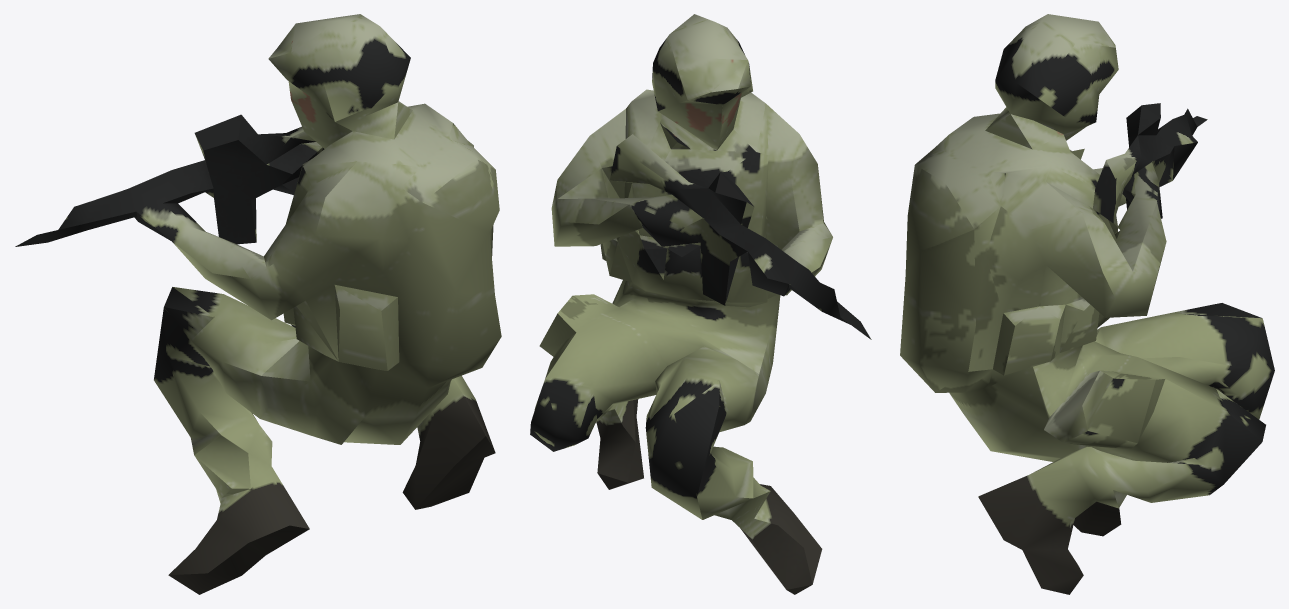
The model's file is rifle_soldier_crouch.glb.
The picture shows the model from 3 angles, left to right: view 1: azimuth 30°, elevation 25°; view 2: azimuth 150°, elevation 25°; view 3: azimuth 270°, elevation 25°; orthographic projection. The views are drawn at different scales.
Visible parts, largest first — view 1: rifle_soldier_crouch; view 2: rifle_soldier_crouch; view 3: rifle_soldier_crouch.
Part boxes in pixels (x1,y1,x2,y2): rifle_soldier_crouch: (15, 14, 501, 594); rifle_soldier_crouch: (530, 14, 871, 594); rifle_soldier_crouch: (900, 14, 1274, 594).
Bounding box in the file's own units: 0.1288 × 0.1777 × 0.1044.
Materials: 1 (1 with a texture image).
